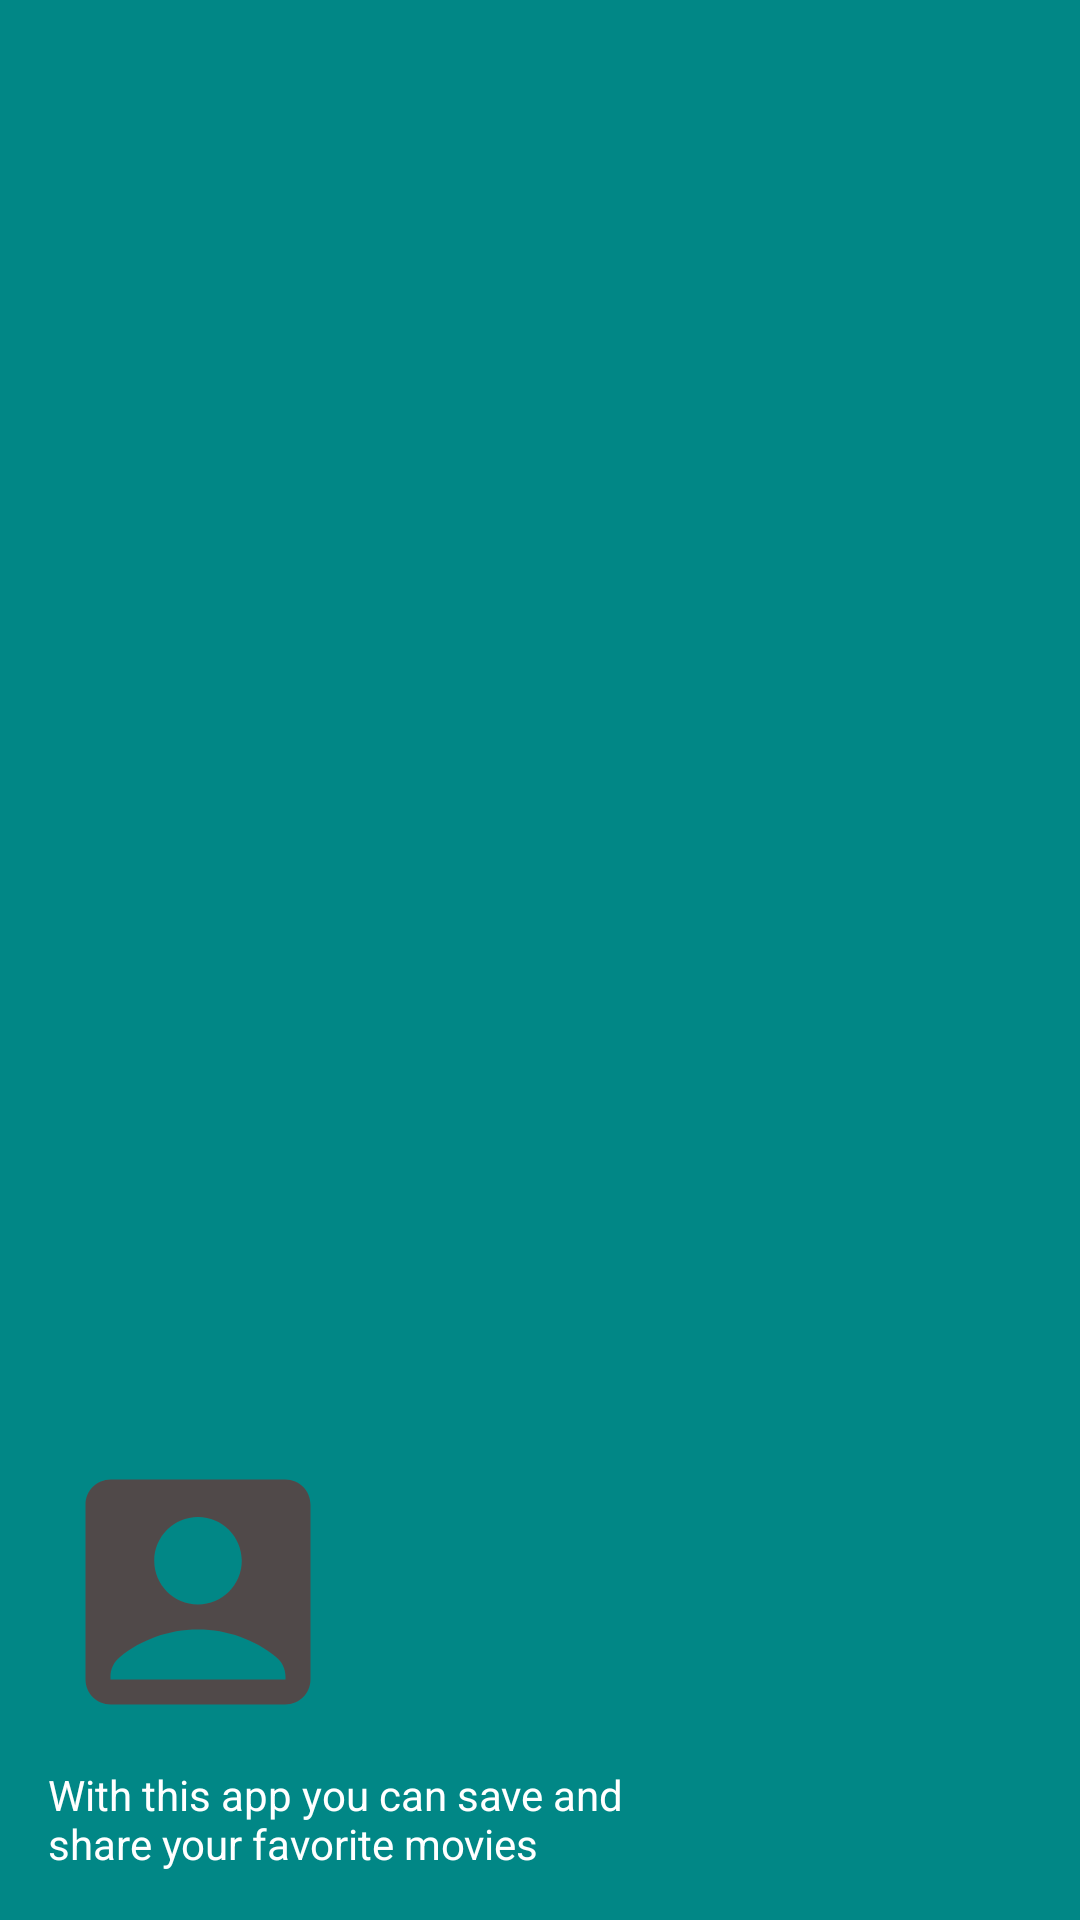

Where icons sit on this 1080px×1920px app screen, as bbox=[x1, y1, x2, y2]:
user: bbox=[85, 1479, 311, 1705]
